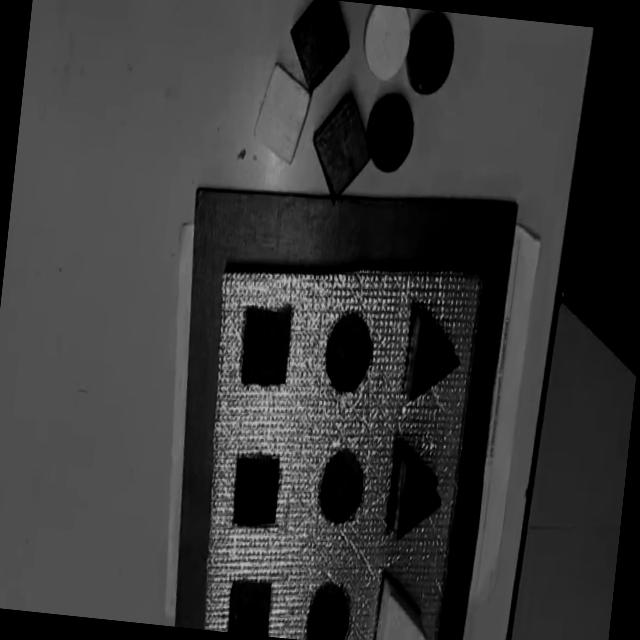bcircle: (363, 91, 418, 176)
bcube: (285, 0, 352, 92)
btriangle: (404, 311, 464, 407)
mtcircle: (321, 308, 377, 396), (316, 444, 370, 526), (304, 578, 354, 640)
mtcube: (236, 300, 296, 390), (229, 448, 284, 530), (226, 574, 275, 636)
rcircle: (407, 11, 454, 95)
rcube: (308, 89, 377, 204)
rtriangle: (384, 437, 450, 545)
wb: (181, 241, 482, 640)
ycircle: (359, 4, 412, 84)
ycube: (255, 64, 311, 163)
ytriangle: (373, 573, 432, 640)
